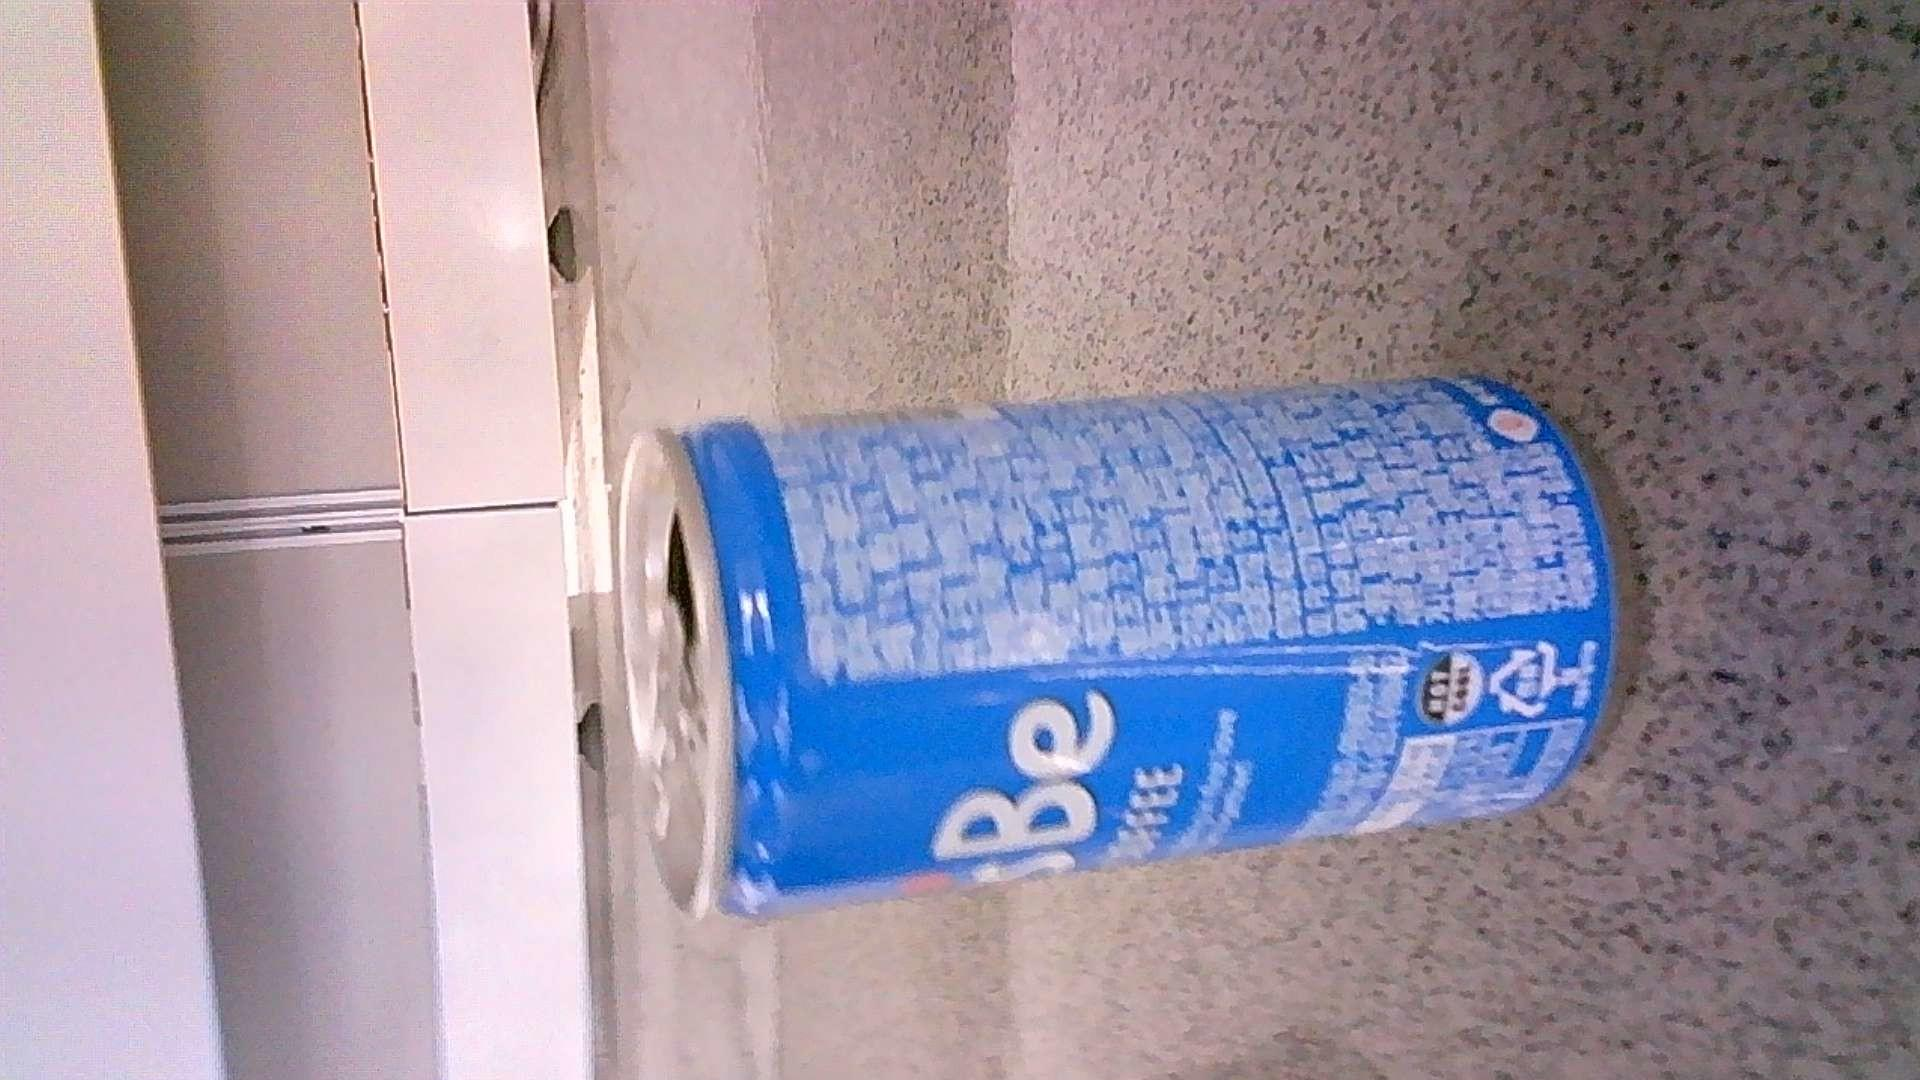letsbe: (618, 373, 1618, 926)
